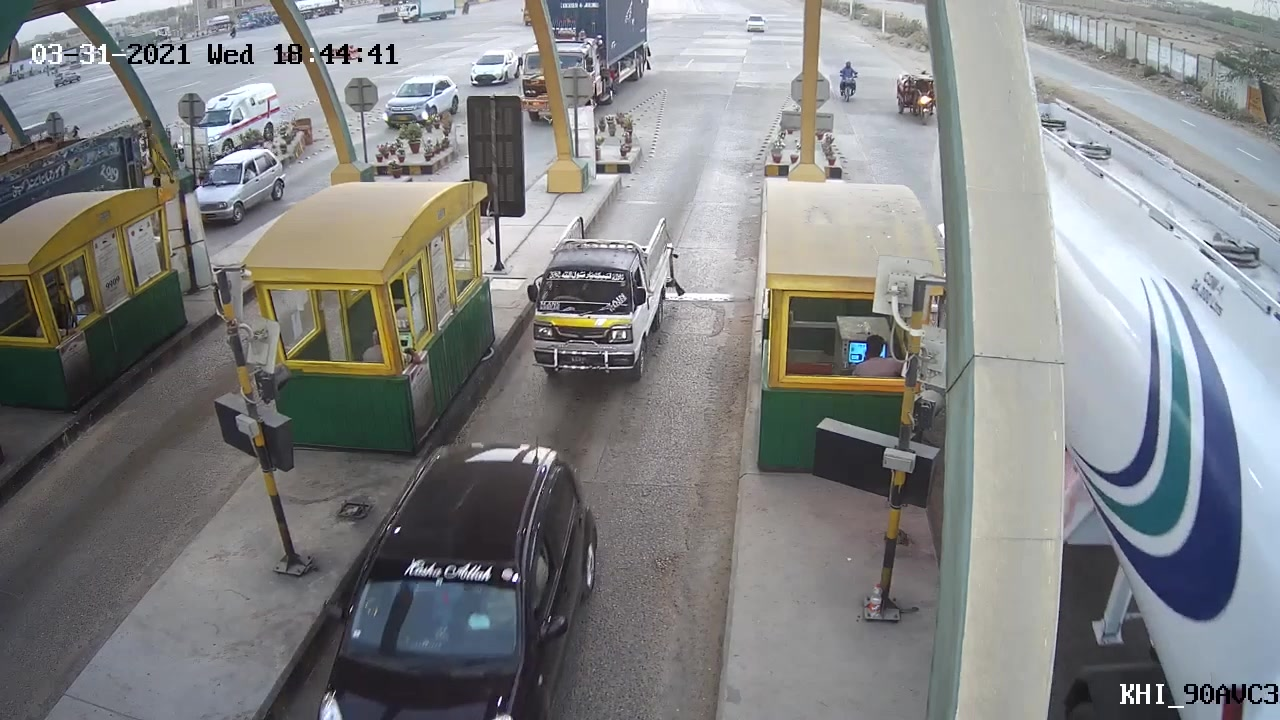F2: (525, 206, 682, 379)
